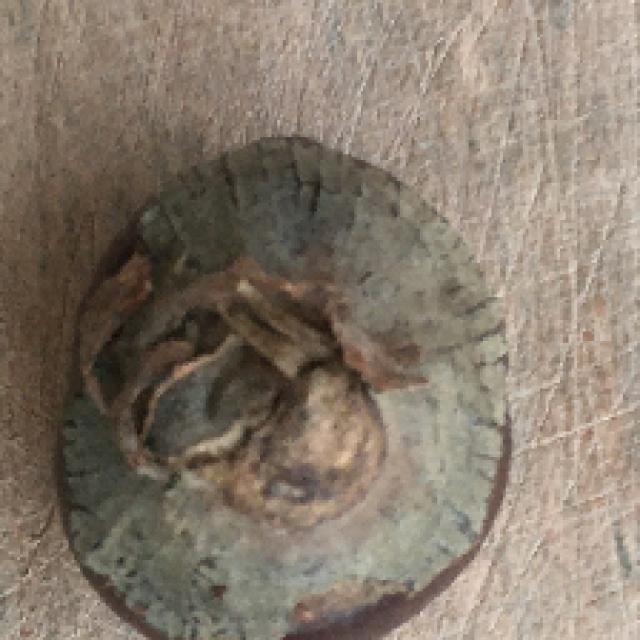damagedHazelnut: (46, 133, 534, 640)
